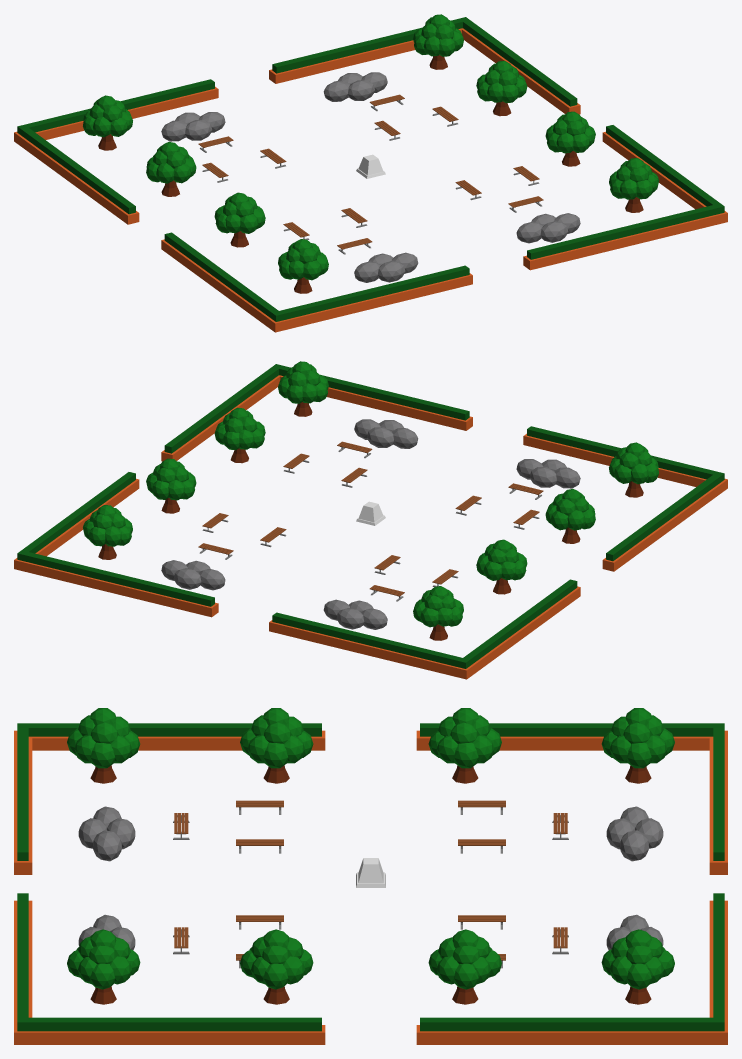
Rendered from Park-Model.glb.
3 views of the same model, one above another, from view 1: azimuth 30°, elevation 25°; view 2: azimuth 150°, elevation 25°; view 3: azimuth 270°, elevation 25° (orthographic). The views are drawn at different scales.
Parts seen in each view (by area): view 1: Cube.022, Icosphere.015, Icosphere.016, Icosphere.014, Icosphere.013, Cylinder.001, Cylinder, Cube.017, Icosphere.029, Icosphere.012, Cube.003, Cube.010 (+12 smaller); view 2: Cube.022, Icosphere.015, Icosphere.016, Icosphere.014, Icosphere.013, Cylinder.001, Cylinder, Cube.017, Icosphere.029, Icosphere.012, Cube.003, Cube.010 (+12 smaller); view 3: Cube.022, Icosphere.015, Icosphere.013, Icosphere.012, Icosphere.029, Cylinder, Cylinder.001, Icosphere.014, Cube.003, Cube.017, Icosphere.007, Icosphere.024 (+25 smaller).
Boxes of the visible parts, x1,y1,x2,y2 form: Cube.022: (14, 17, 727, 332); Icosphere.015: (198, 81, 542, 273); Icosphere.016: (161, 72, 580, 282); Icosphere.014: (175, 73, 568, 282); Icosphere.013: (185, 80, 555, 265); Cylinder.001: (98, 55, 643, 293); Cylinder: (161, 101, 580, 247); Cube.017: (198, 94, 543, 249); Icosphere.029: (96, 14, 645, 252); Icosphere.012: (160, 60, 581, 206); Cube.003: (260, 120, 481, 223); Cube.010: (202, 106, 539, 237); Cube.022: (14, 364, 727, 679); Icosphere.015: (199, 428, 543, 620); Icosphere.016: (161, 419, 580, 629); Icosphere.014: (173, 420, 566, 629); Icosphere.013: (186, 427, 556, 612); Cylinder.001: (98, 402, 643, 640); Cylinder: (161, 448, 580, 594); Cube.017: (198, 441, 543, 596); Icosphere.029: (96, 361, 645, 599); Icosphere.012: (160, 407, 581, 553); Cube.003: (260, 467, 481, 570); Cube.010: (202, 453, 539, 584); Cube.022: (14, 723, 727, 1044); Icosphere.015: (93, 830, 648, 931); Icosphere.013: (107, 818, 634, 949); Icosphere.012: (263, 708, 478, 948); Icosphere.029: (90, 708, 651, 948); Cylinder: (263, 765, 478, 1004); Cylinder.001: (90, 765, 651, 1004); Icosphere.014: (78, 818, 663, 945); Cube.003: (236, 839, 505, 921); Cube.017: (174, 813, 567, 948); Icosphere.007: (263, 742, 478, 768); Icosphere.024: (90, 742, 651, 768).
Size of the model in its own units: 32.26 by 4.06 by 32.22.
